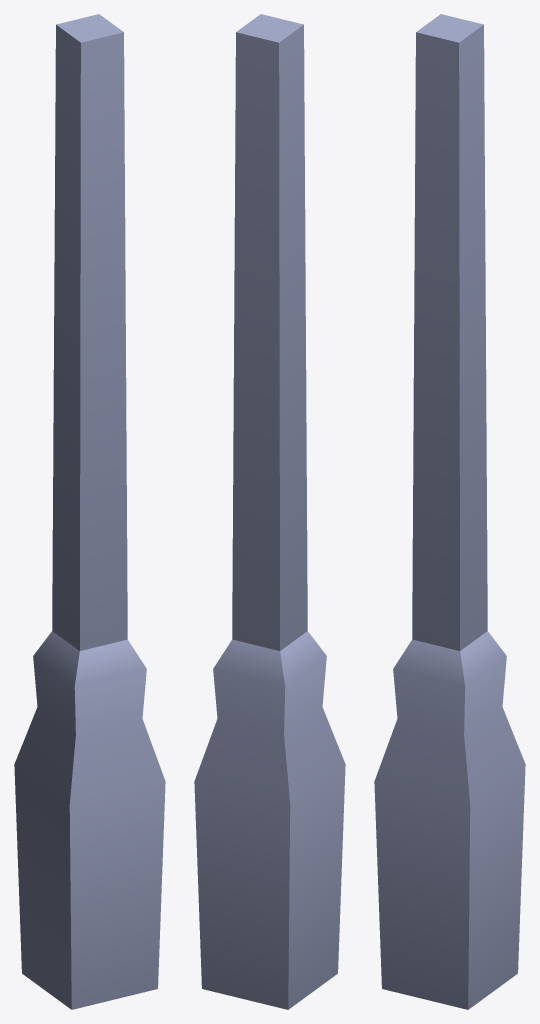
Rendered from road-sign-empty.glb.
The picture shows the model from 3 angles, left to right: view 1: azimuth 30°, elevation 25°; view 2: azimuth 150°, elevation 25°; view 3: azimuth 330°, elevation 25°; orthographic projection.
Parts seen in each view (by area): view 1: road-sign-empty; view 2: road-sign-empty; view 3: road-sign-empty.
Part boxes in pixels (x1,y1,x2,y2): road-sign-empty: (14, 14, 165, 1009); road-sign-empty: (194, 14, 345, 1009); road-sign-empty: (374, 14, 525, 1009).
Size of the model in its own units: 0.05 by 0.475 by 0.05.
1 material, 1 textured.
